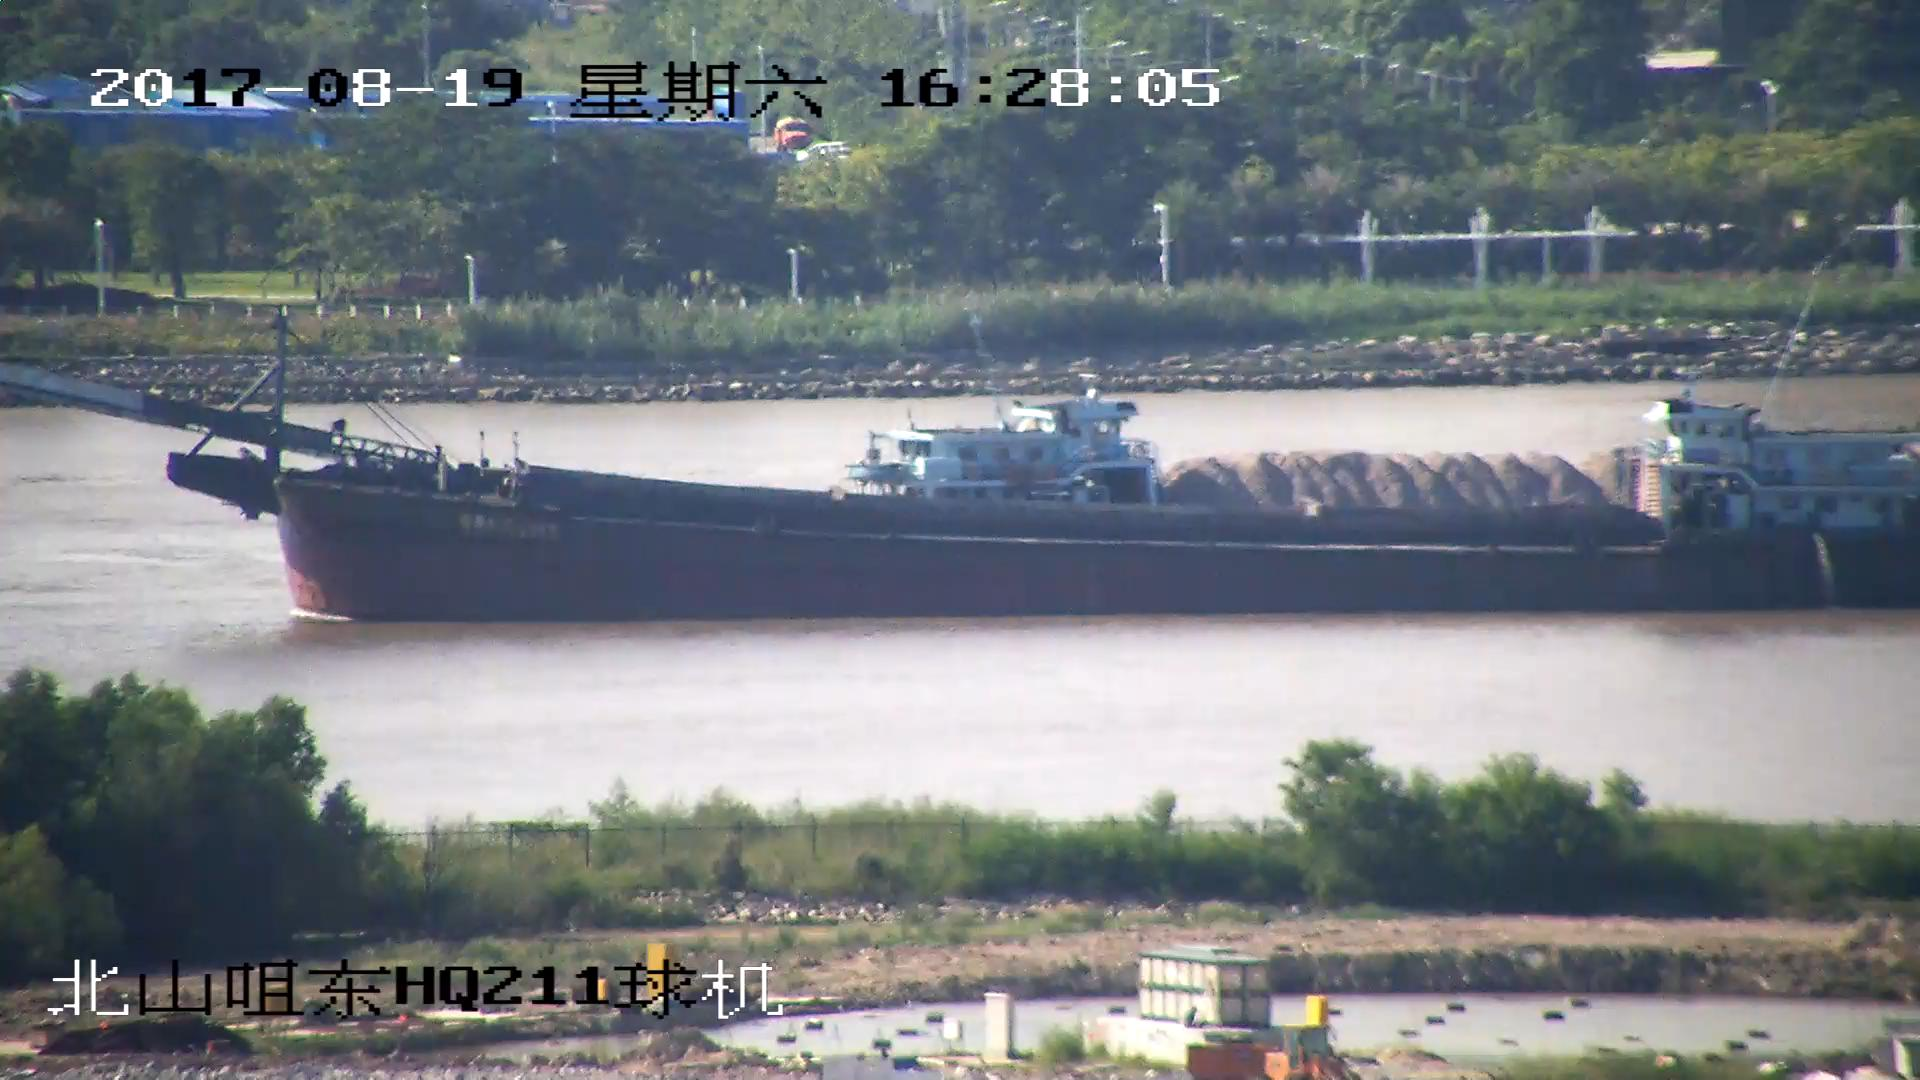bulk cargo carrier: (1, 317, 1920, 616)
ore carrier: (832, 415, 1698, 533)
